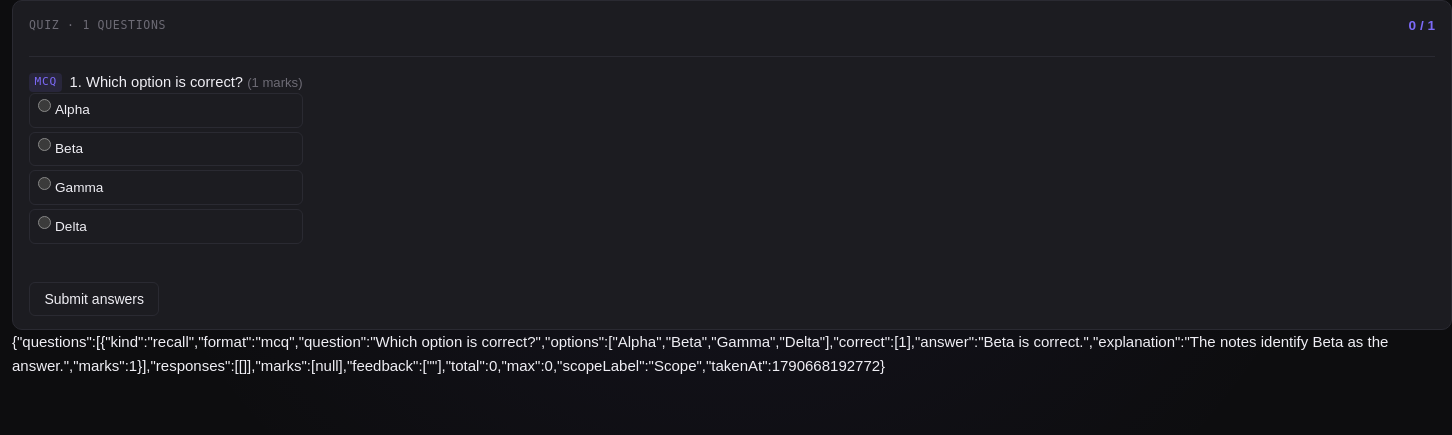
Scenario: QuizRunner › grades selected objective answers on submit and reveals the result
Click the radio button labelled "Beta": coordinates (44, 145) left=38, top=138, right=51, bottom=151
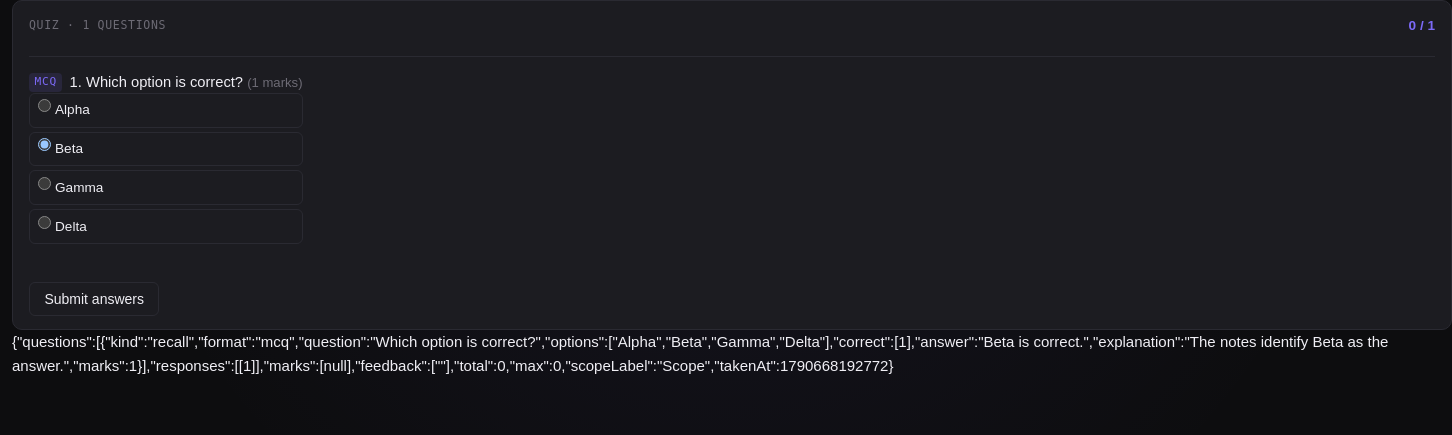
Click the button "Submit answers": coordinates (94, 298) left=29, top=282, right=159, bottom=316
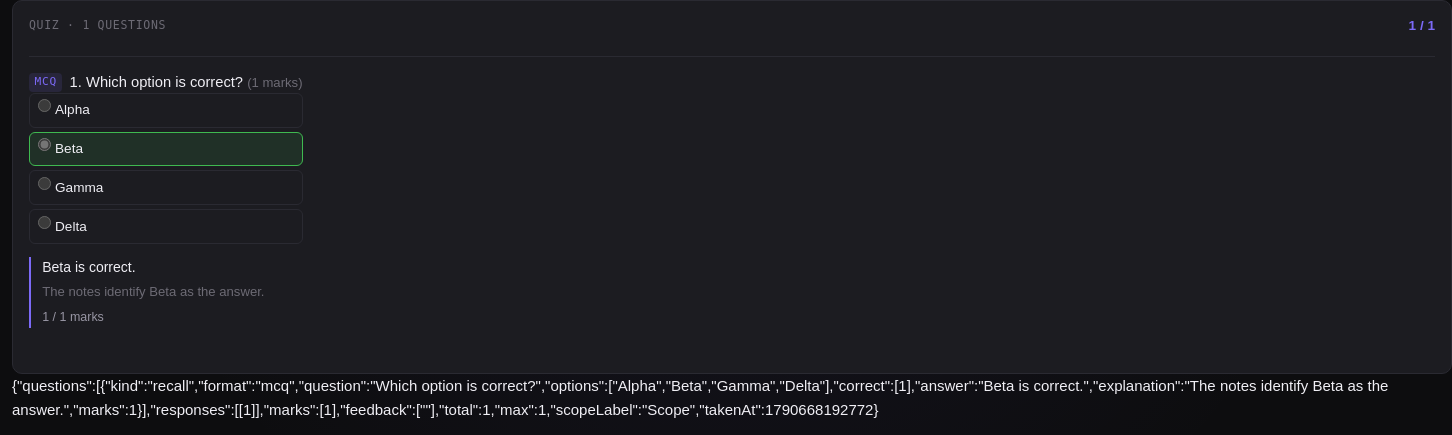
Now the text "Beta is correct." is shown, box left=42, top=259, right=136, bottom=275
Now the text "1 / 1 marks" is shown, box left=42, top=310, right=104, bottom=324
